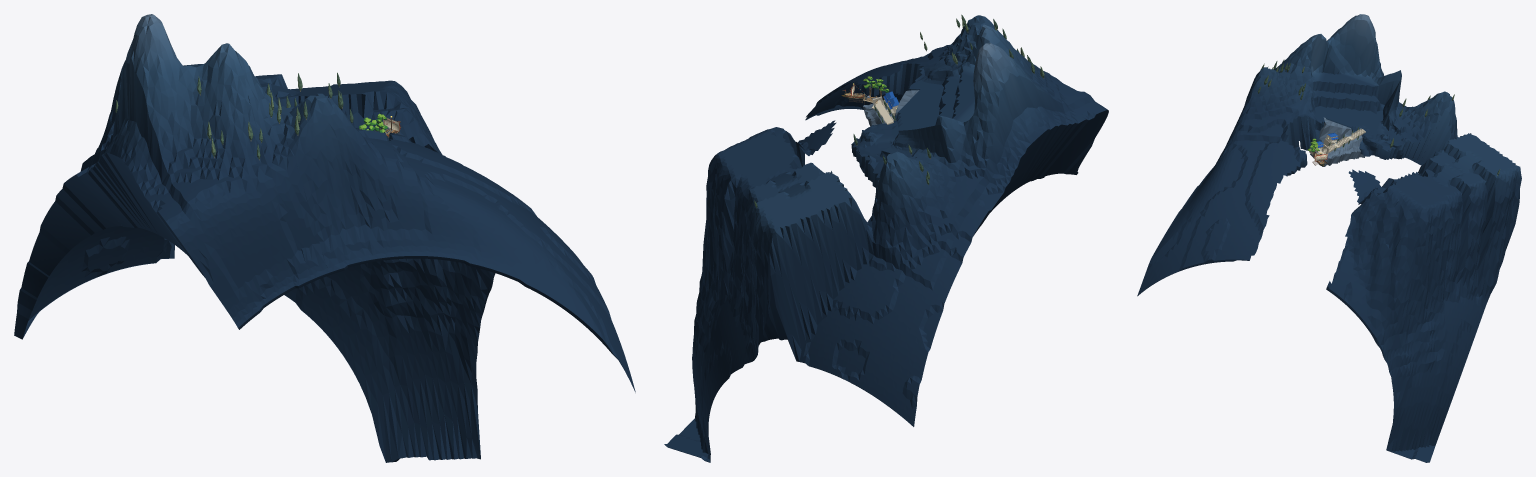
Rendered from before-old-harbor-overlay.glb.
The picture shows the model from 3 angles, left to right: view 1: azimuth 30°, elevation 25°; view 2: azimuth 150°, elevation 25°; view 3: azimuth 270°, elevation 25°; orthographic projection. The views are drawn at different scales.
Visible parts, largest first — view 1: citadel-oskar-grid-mountain-surface, mountain-cypress-geometry; view 2: citadel-oskar-grid-mountain-surface, citadel-coastal-cliff-seal; view 3: citadel-oskar-grid-mountain-surface, citadel-coastal-cliff-seal, old-shore-blender-rock-support, citadel-old-city-support-spur.
Part boxes in pixels (x1,y1,x2,y2): citadel-oskar-grid-mountain-surface: [14, 14, 635, 462]; mountain-cypress-geometry: [115, 72, 353, 159]; citadel-oskar-grid-mountain-surface: [664, 15, 1108, 462]; citadel-coastal-cliff-seal: [787, 63, 923, 190]; citadel-oskar-grid-mountain-surface: [1137, 14, 1521, 462]; citadel-coastal-cliff-seal: [1285, 109, 1464, 177]; old-shore-blender-rock-support: [1310, 134, 1365, 166]; citadel-old-city-support-spur: [1319, 117, 1352, 142].
Bounding box in the file's own units: 199 × 251 × 255.
91 materials, 2 textured.
